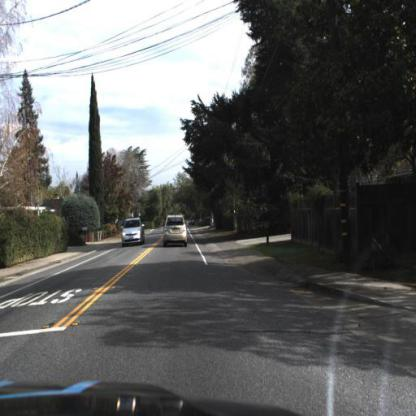car: (160, 215, 189, 245), (123, 221, 145, 248)
